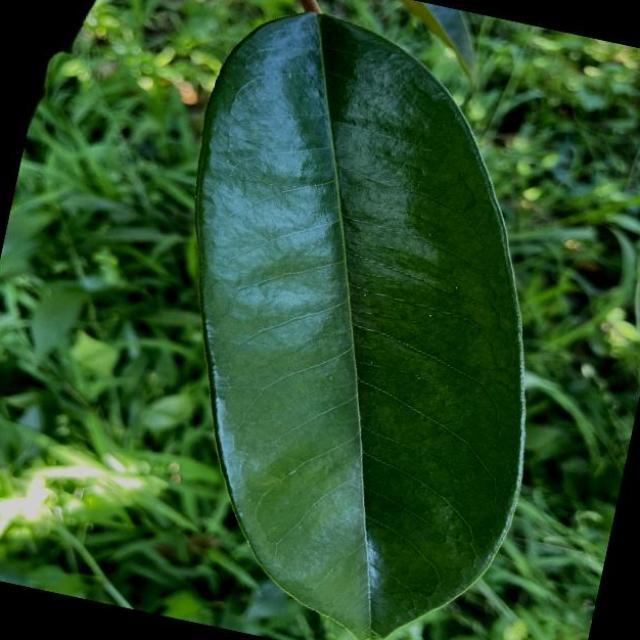No Disease: (93, 0, 615, 640)
